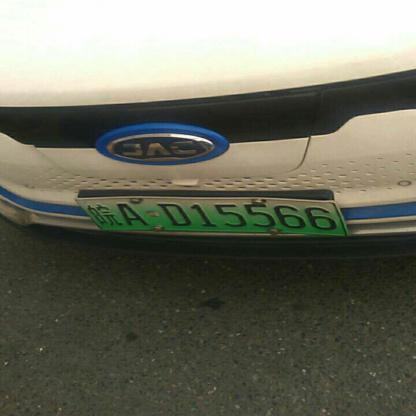lp: (75, 199, 346, 234)
